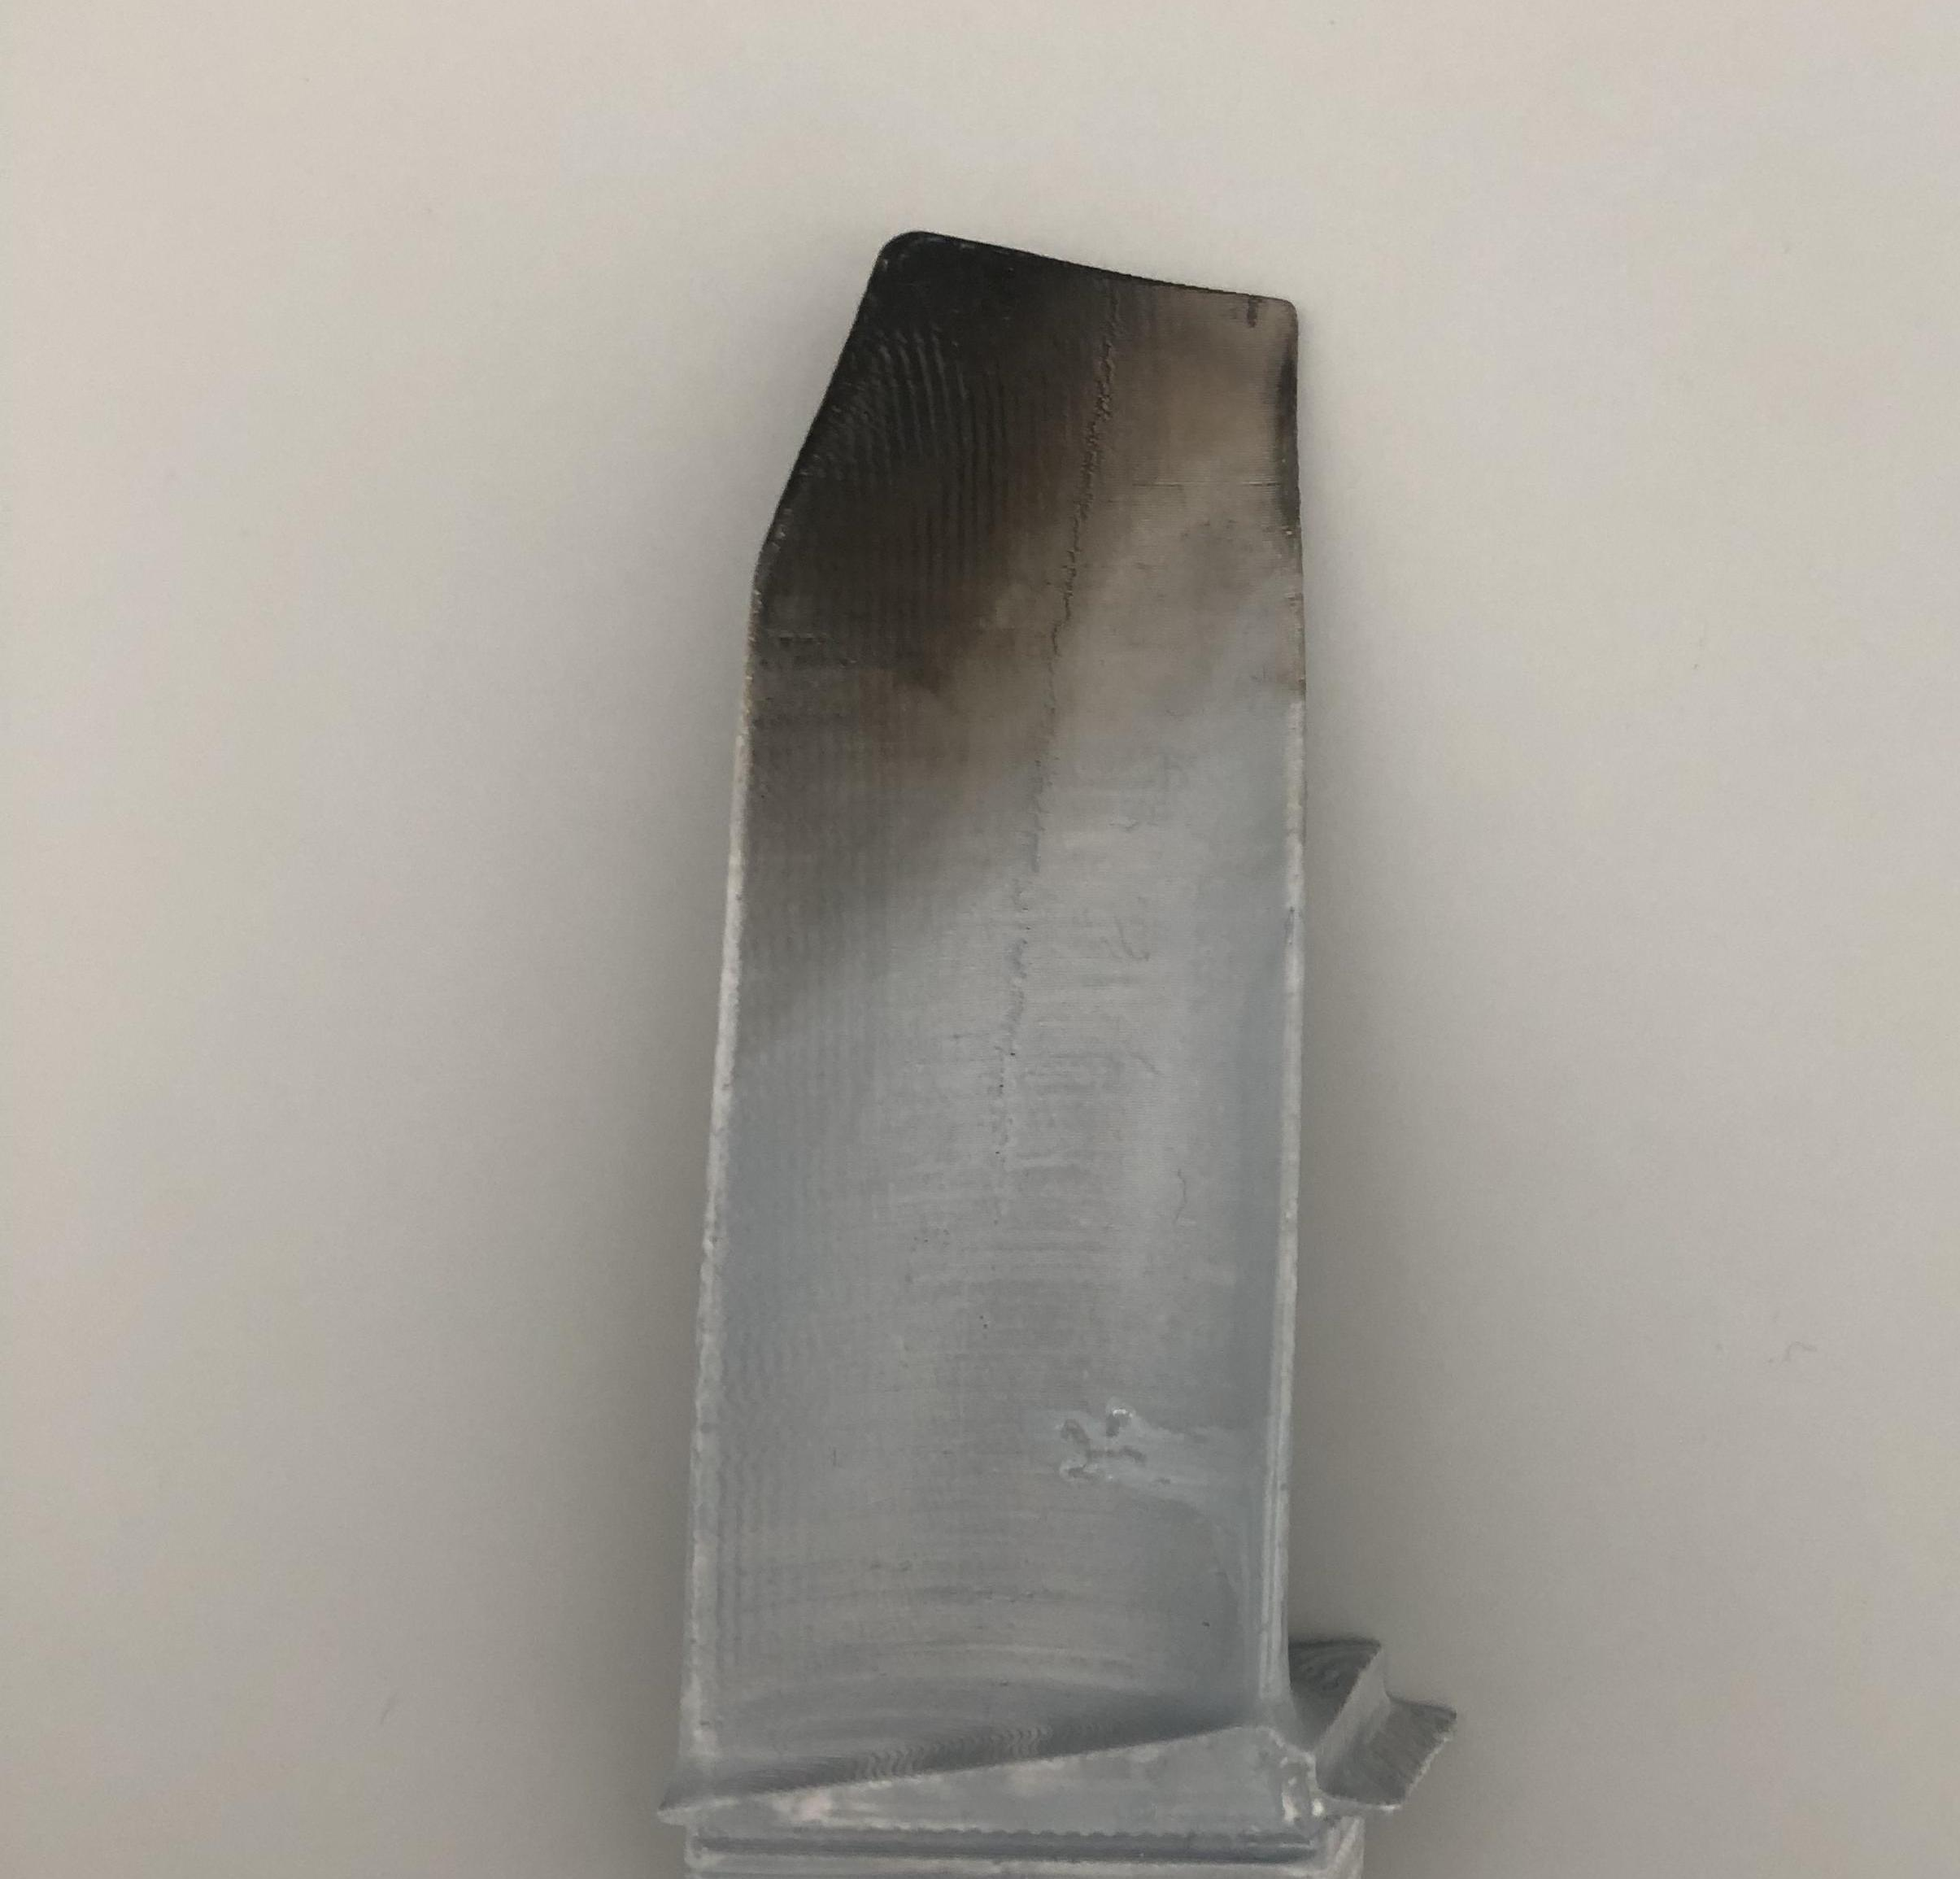ablation: (814, 304, 1202, 619)
